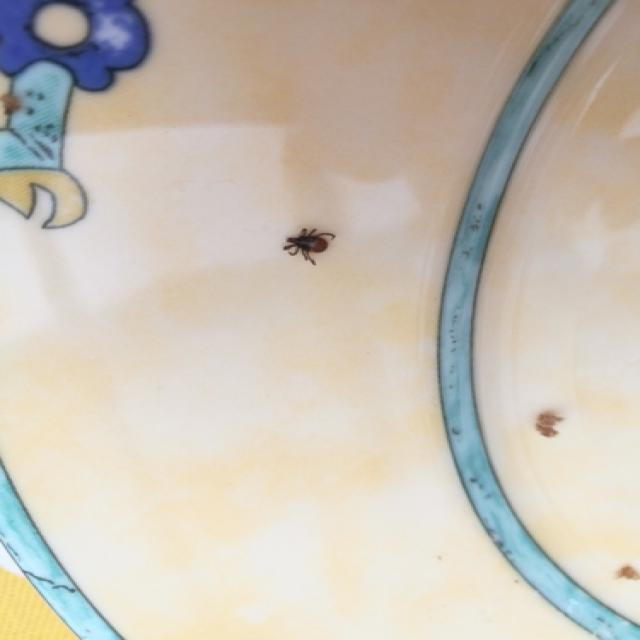Ixodes Ricinus-F: (280, 224, 338, 274)
